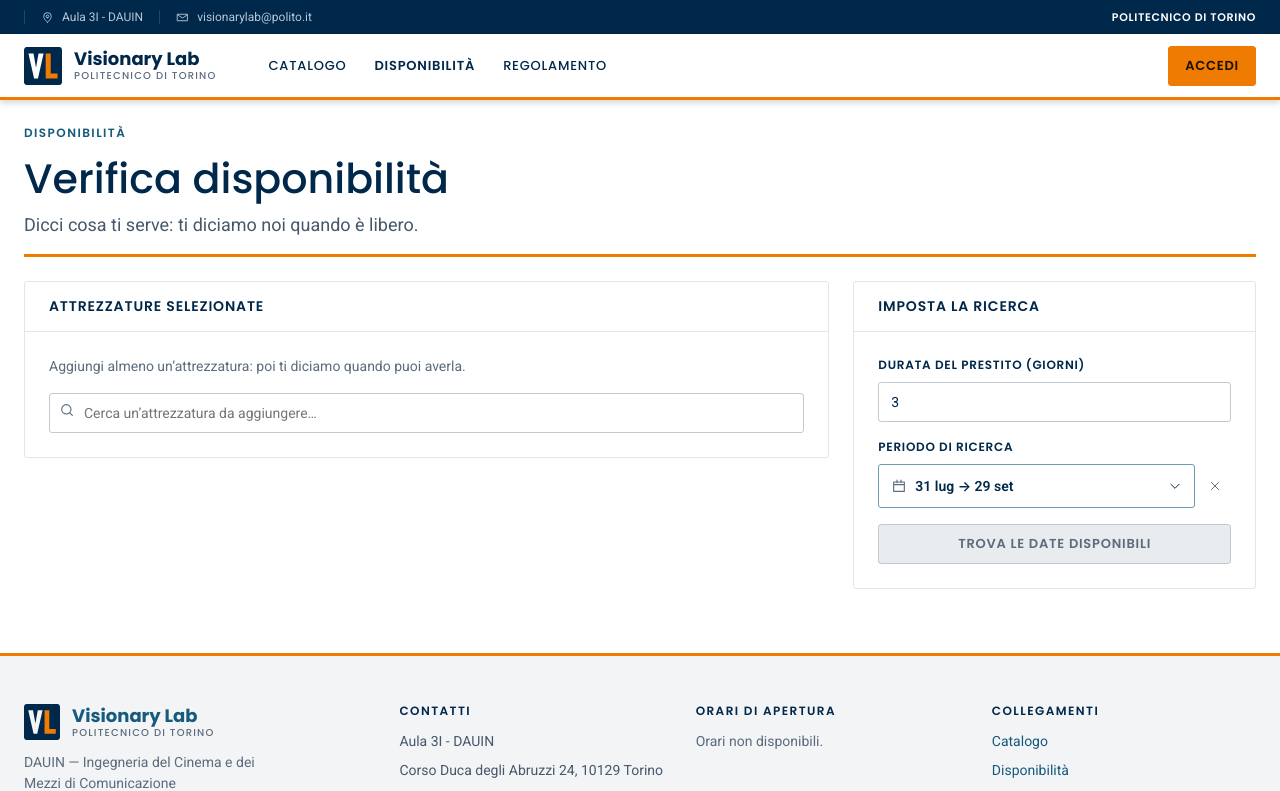
Test: AvailabilityFinderPage (products → dates) › names the products blocking an unavailable window
Expected: the heading "Verifica disponibilità" is shown, x1=24 y1=150 x2=449 y2=207
Type "visore" into the search field at (427, 413), box x1=49 y1=393 x2=804 y2=433
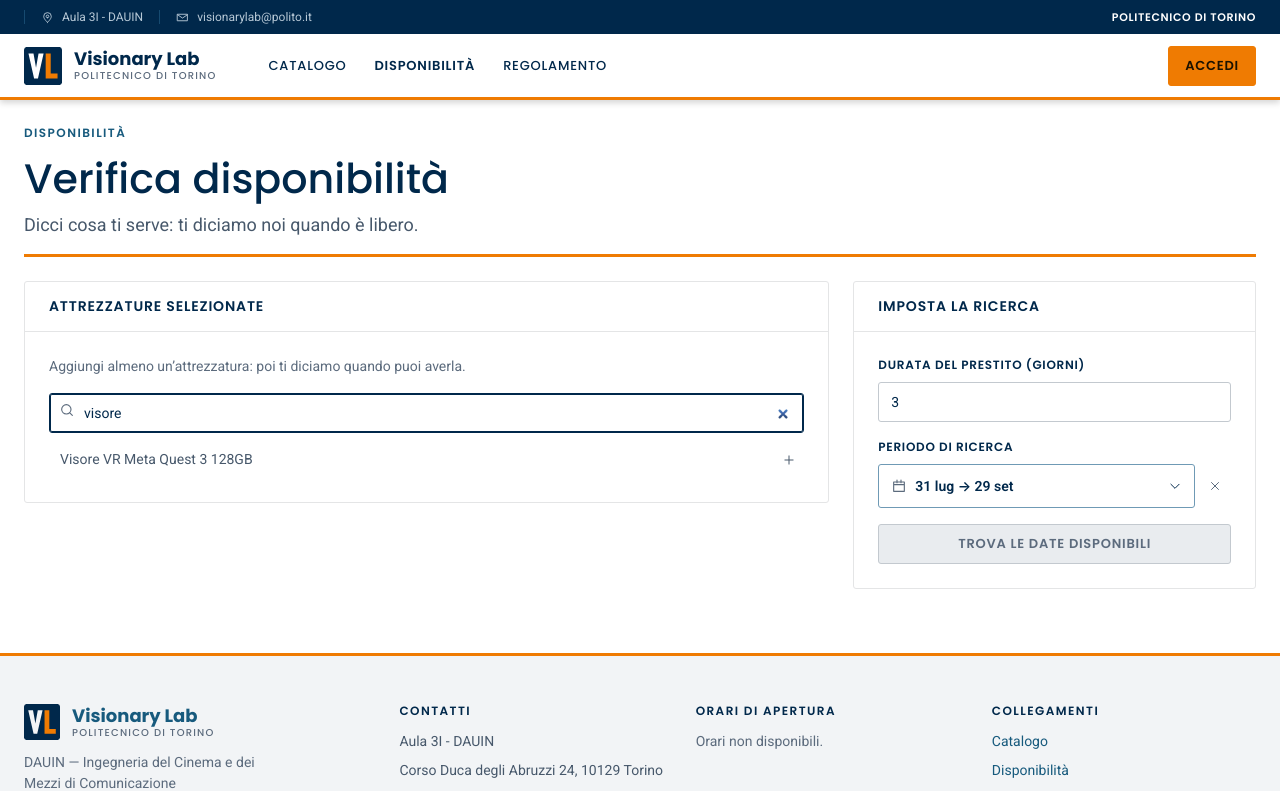
Click the button "Visore VR Meta Quest 3 128GB" at (156, 459), box x1=49 y1=441 x2=804 y2=478
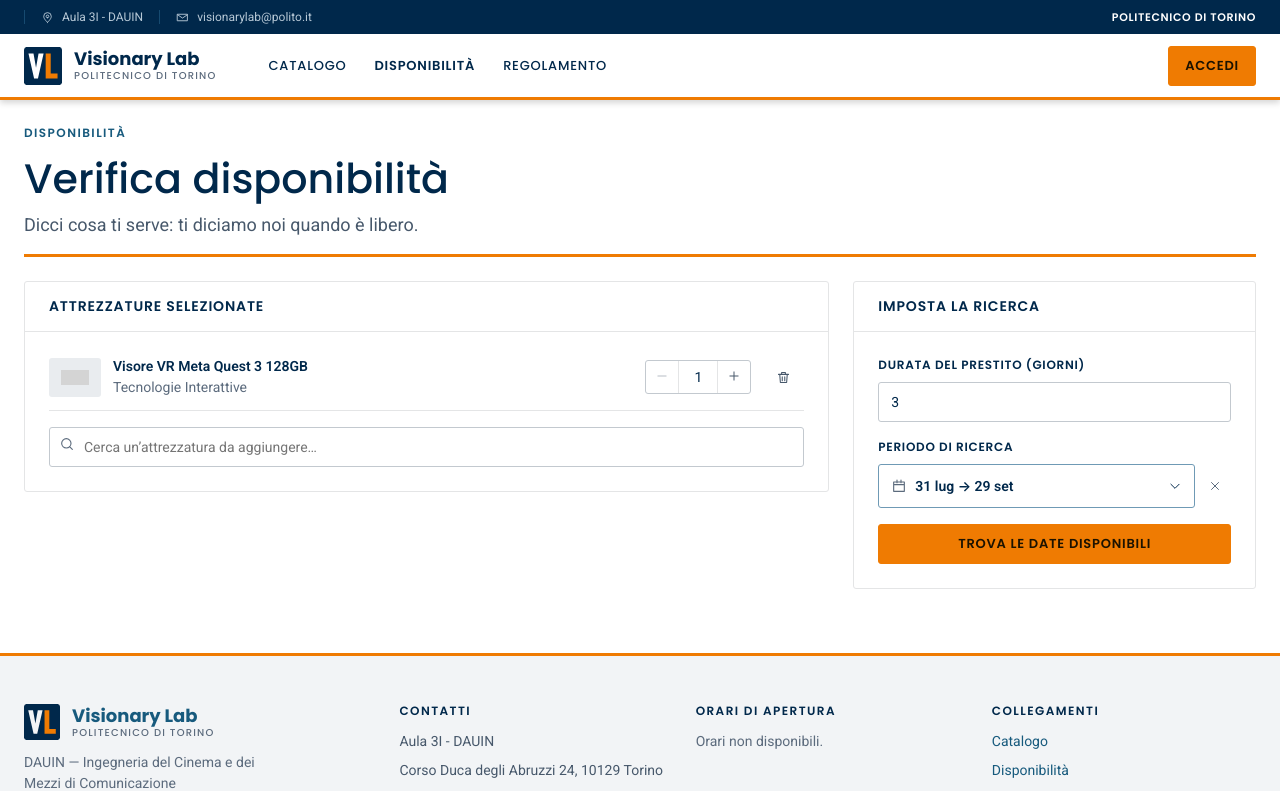
Click the button "Trova le date disponibili" at (1055, 544), box x1=878 y1=524 x2=1231 y2=564
(page scrolled)
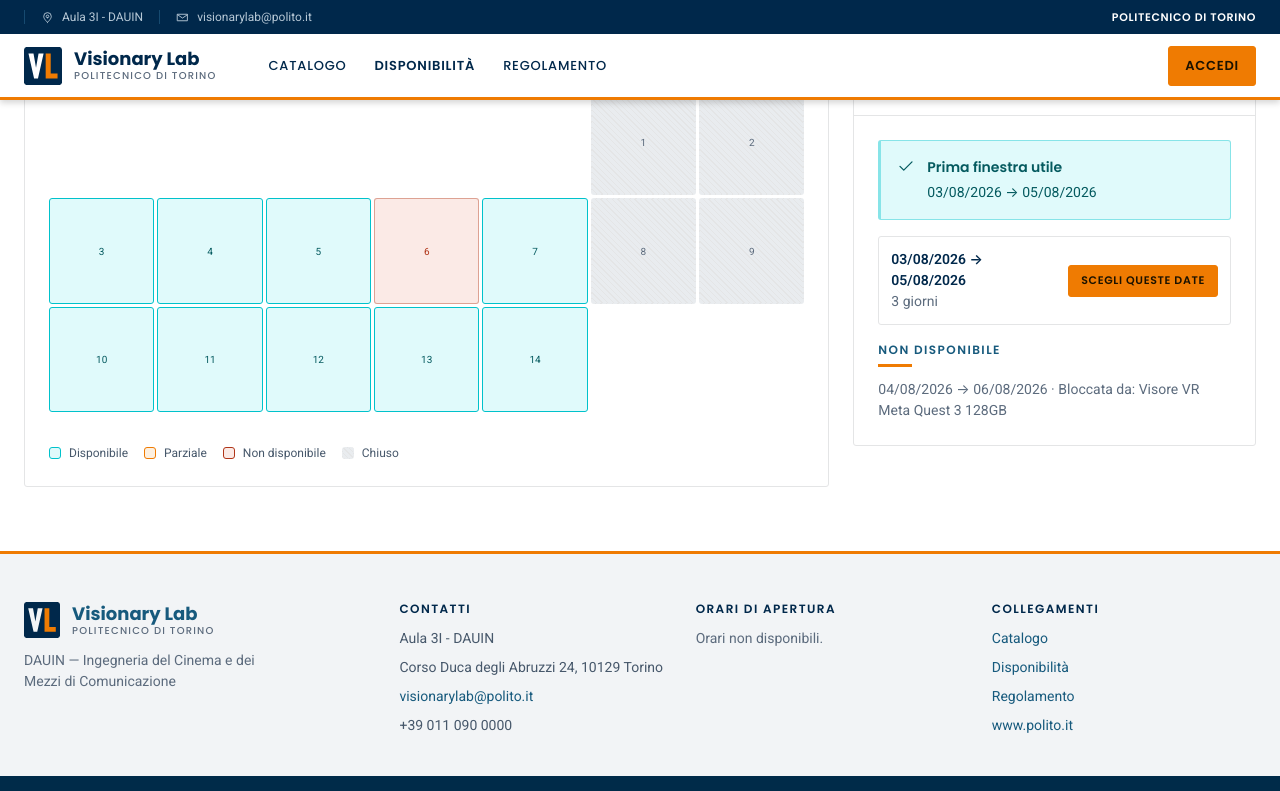
Expected: the list item "Bloccata da: Visore VR Meta Quest 3 128GB" is shown, x1=878 y1=381 x2=1199 y2=418
